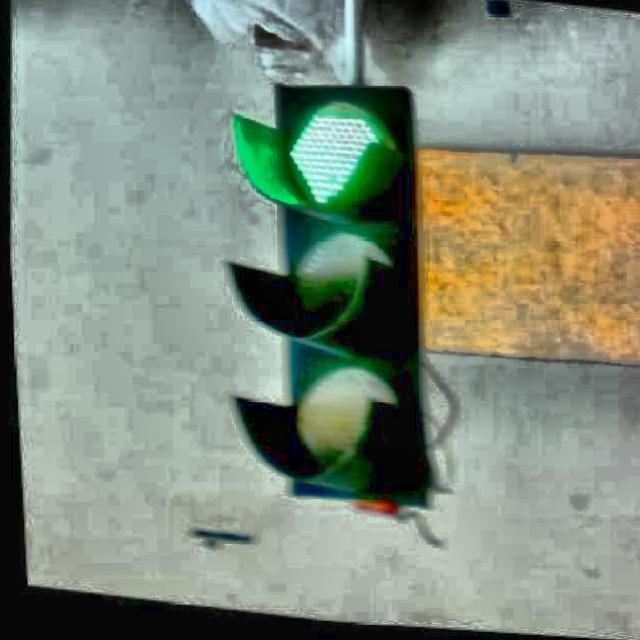green: (238, 83, 408, 497)
